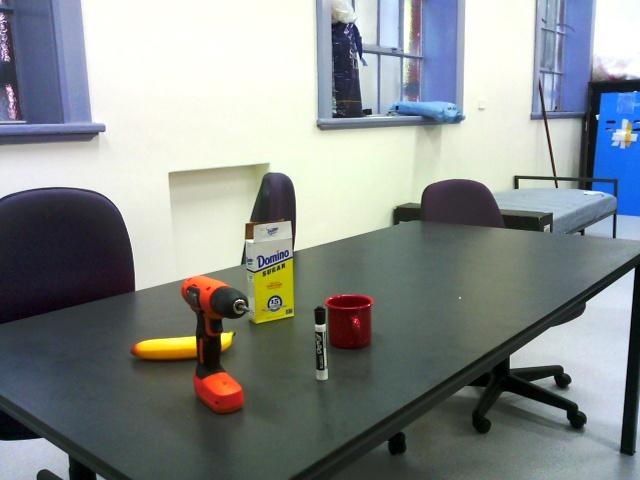011_banana: (129, 327, 237, 362)
025_mug: (323, 292, 376, 351)
035_power_drill: (179, 274, 254, 417), (243, 217, 298, 327)
040_large_marker: (311, 304, 331, 382)
